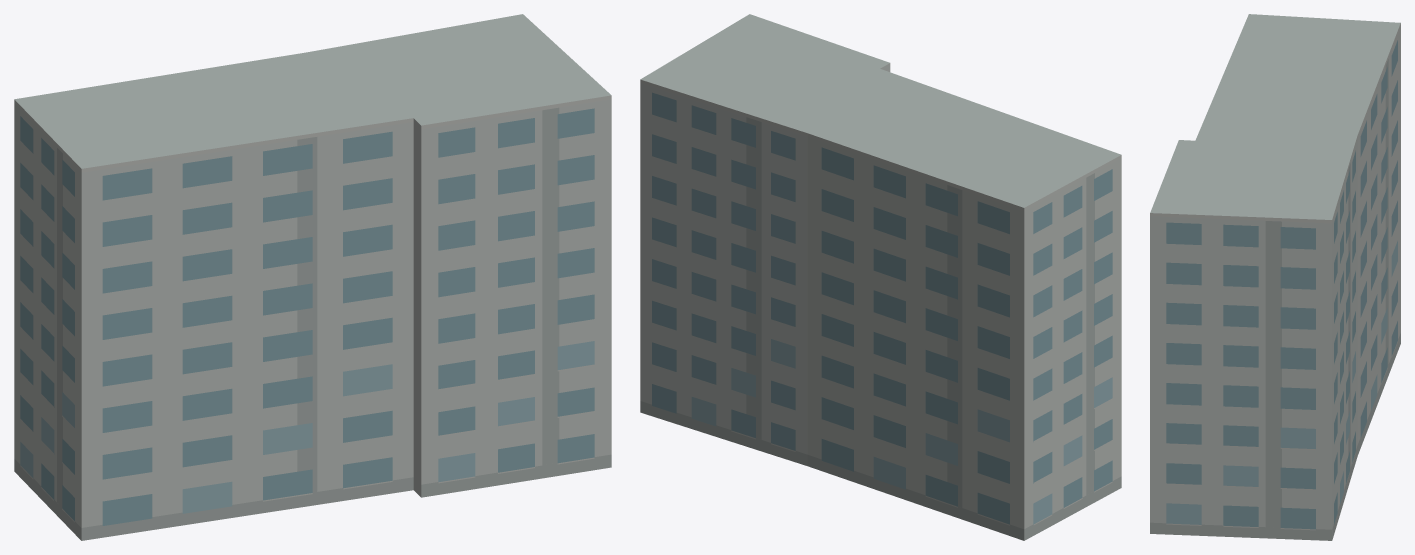
The model's file is survey-upis-32767281.glb.
3 views of the same model, side by side, from view 1: azimuth 30°, elevation 25°; view 2: azimuth 150°, elevation 25°; view 3: azimuth 270°, elevation 25° (orthographic). The views are drawn at different scales.
Visible parts, largest first — view 1: survey-upis-32767281.tmp; view 2: survey-upis-32767281.tmp; view 3: survey-upis-32767281.tmp.
Part boxes in pixels (box(x1,y1,x2,y2)): survey-upis-32767281.tmp: box(14, 14, 611, 540); survey-upis-32767281.tmp: box(640, 14, 1121, 540); survey-upis-32767281.tmp: box(1150, 14, 1400, 540).
Size of the model in its own units: 31.83 by 23.1 by 16.37.
